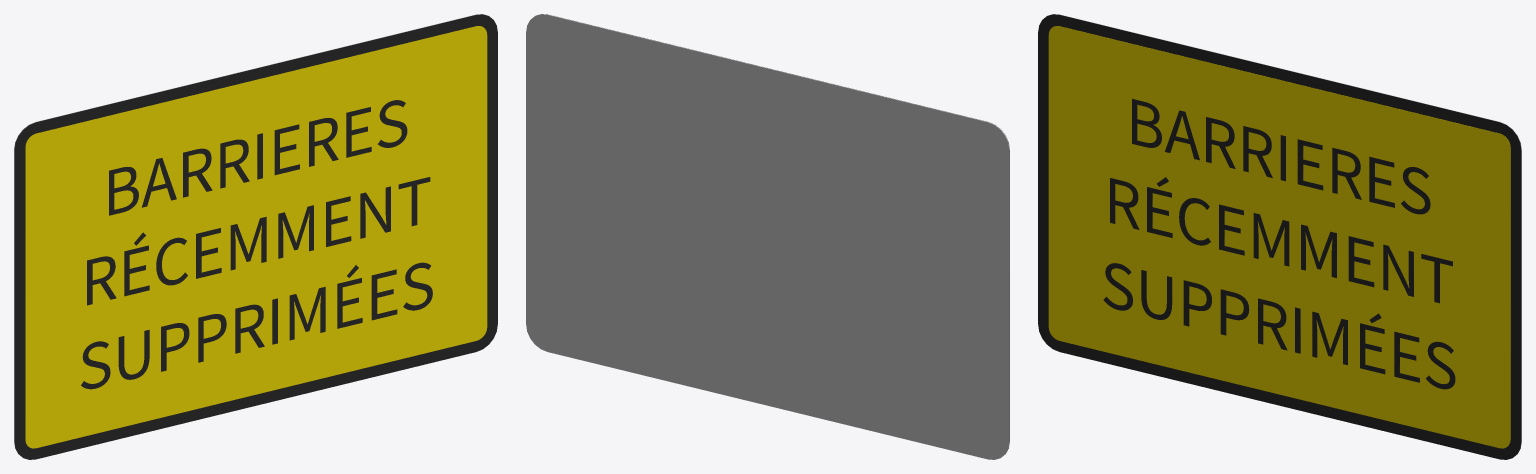
3 renders of one model, left to right at view 1: azimuth 30°, elevation 25°; view 2: azimuth 150°, elevation 25°; view 3: azimuth 330°, elevation 25°, orthographic.
Visible parts, largest first — view 1: KC1_r01, KC1_r00, KC1_txt04, KC1_txt03, KC1_txt02, KC1_dos; view 2: KC1_dos, KC1_r00; view 3: KC1_r01, KC1_r00, KC1_txt04, KC1_txt03, KC1_txt02, KC1_dos.
Boxes of the visible parts, x1,y1,x2,y2 form: KC1_r01: (25, 26, 487, 448); KC1_r00: (14, 14, 497, 459); KC1_txt04: (81, 262, 432, 389); KC1_txt03: (87, 177, 430, 305); KC1_txt02: (109, 100, 407, 215); KC1_dos: (14, 14, 487, 452); KC1_dos: (526, 14, 1009, 459); KC1_r00: (542, 14, 1009, 448); KC1_r01: (1048, 26, 1510, 448); KC1_r00: (1038, 14, 1521, 459); KC1_txt04: (1103, 263, 1455, 389); KC1_txt03: (1110, 177, 1452, 303); KC1_txt02: (1132, 99, 1430, 214); KC1_dos: (1048, 14, 1521, 452).
Bounding box in the file's own units: 0.9 × 0.6 × 0.0033.
